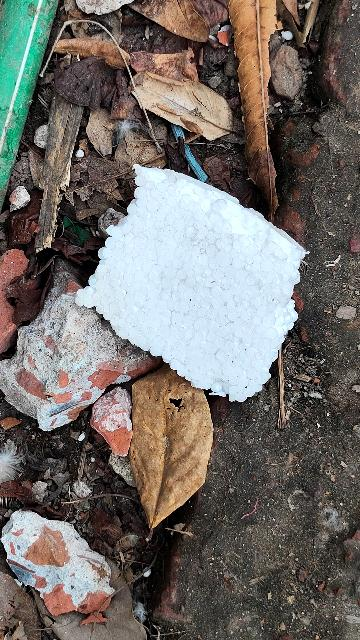cocksheet: (58, 164, 327, 417)
